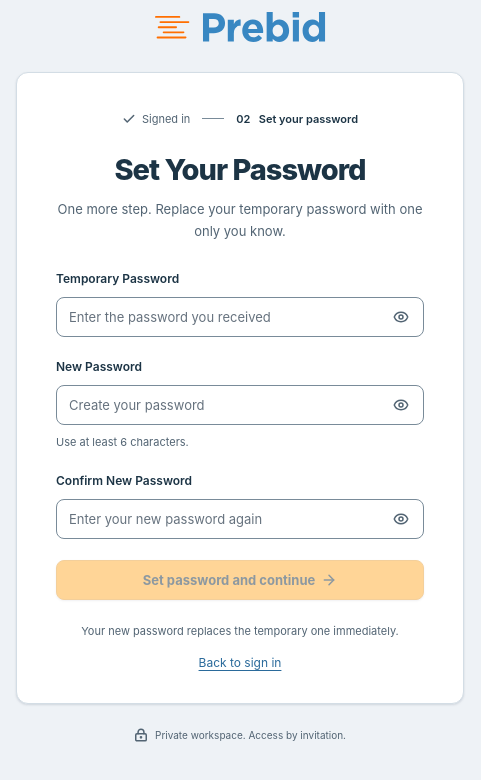
Test: reports unexpected transport errors without claiming a password change
Type "TemporaryPassword1!" into the password field labelled "Temporary Password" at (240, 318), box left=56, top=298, right=424, bottom=338
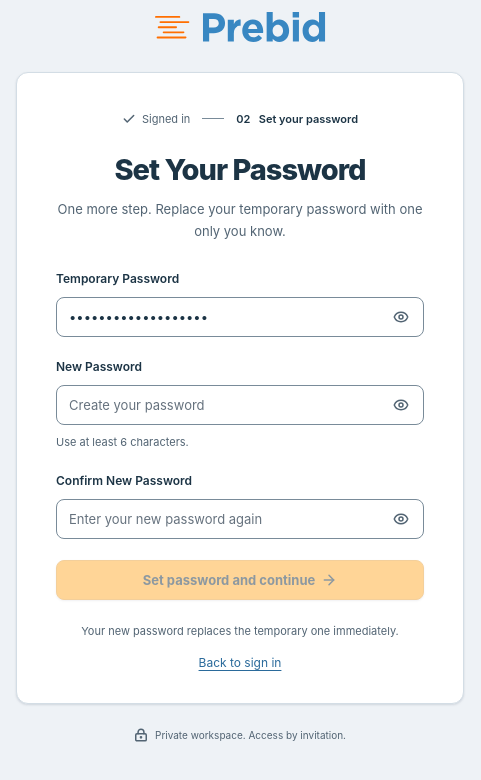
Type "simple" into the password field labelled "New Password" at (240, 406), box left=56, top=386, right=424, bottom=426
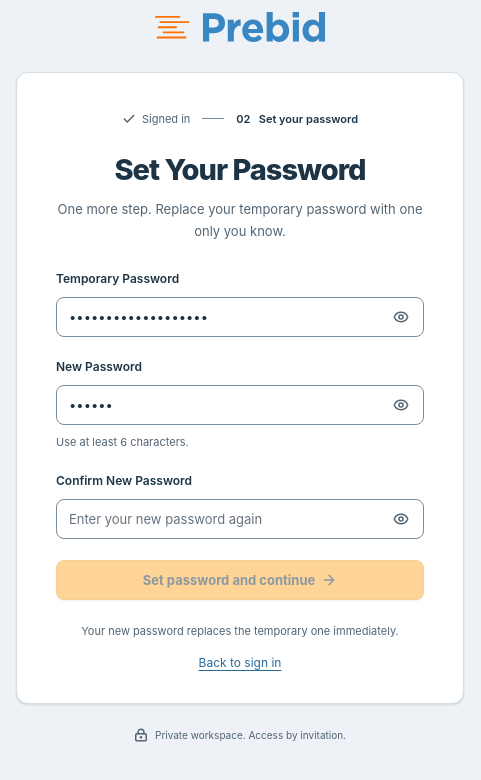
Type "simple" into the password field labelled "Confirm New Password" at (240, 519), box left=56, top=499, right=424, bottom=539
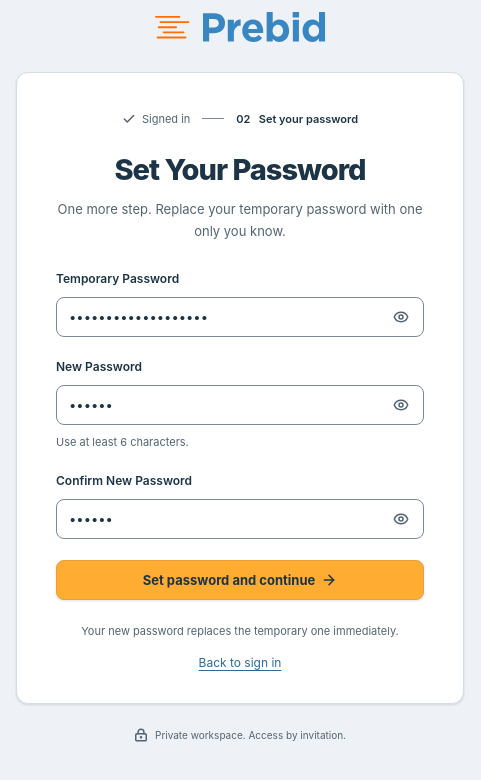
Submit the form named "Set password and continue", box left=56, top=270, right=424, bottom=600
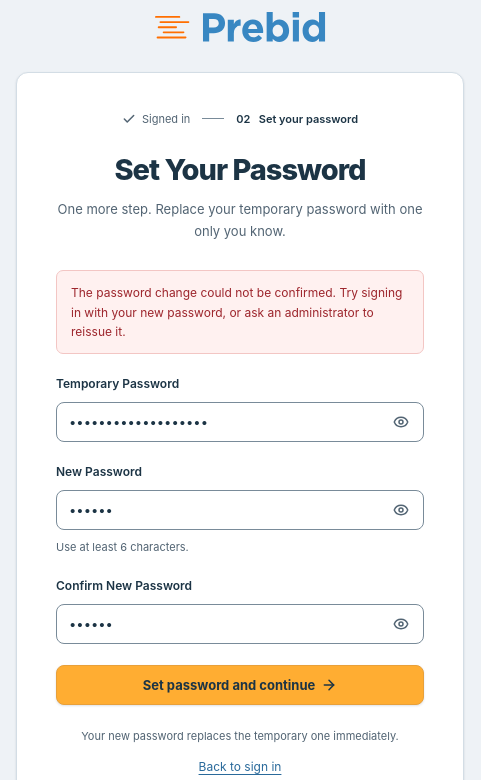
Expected: the message shows "The password change could not be confirmed. Try signing in with your new password, or ask an administrator to reissue it.", left=71, top=286, right=402, bottom=339
